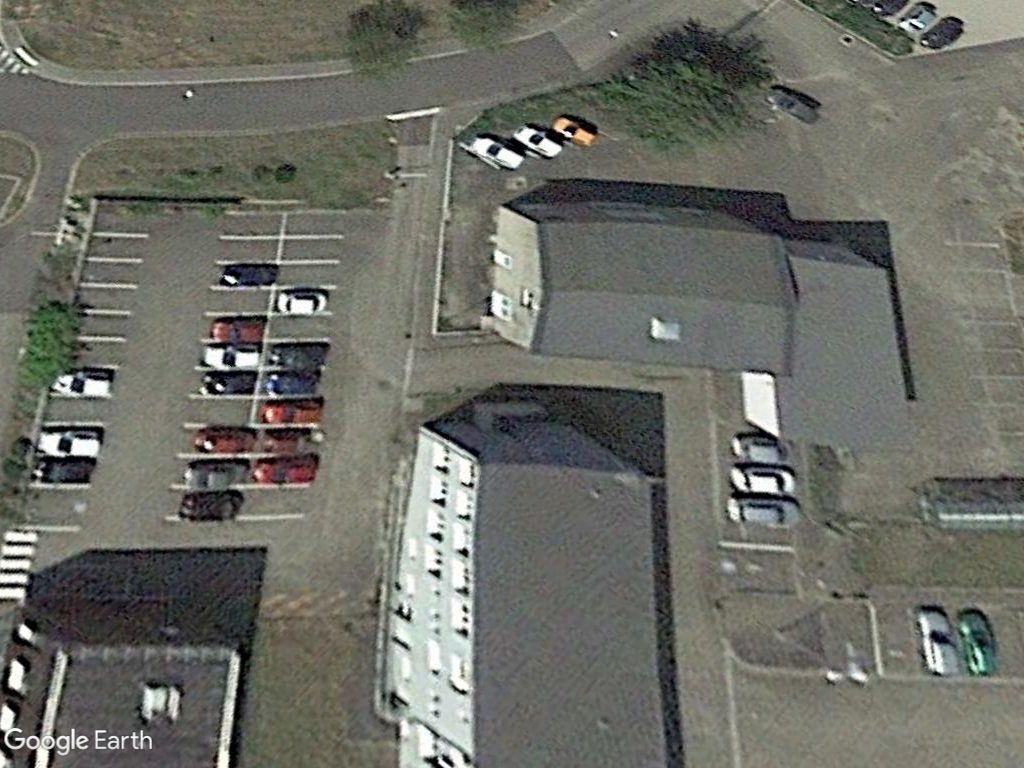car: (723, 458, 799, 497), (203, 340, 265, 371), (275, 287, 330, 317)
